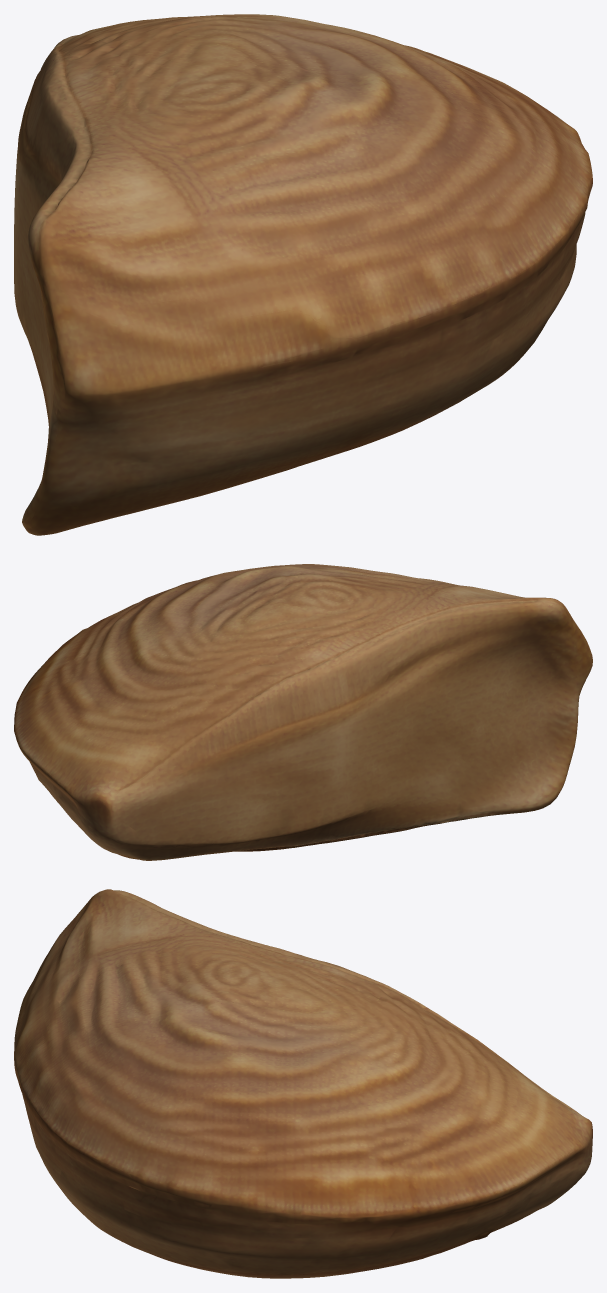
3 renders of one model, top to bottom at view 1: azimuth 30°, elevation 25°; view 2: azimuth 150°, elevation 25°; view 3: azimuth 270°, elevation 25°, orthographic. The views are drawn at different scales.
Parts seen in each view (by area): view 1: world; view 2: world; view 3: world.
Boxes of the visible parts, left/top/right/bottom form: world: left=14, top=14, right=592, bottom=535; world: left=14, top=564, right=592, bottom=860; world: left=14, top=889, right=592, bottom=1278.
Size of the model in its own units: 0.0423 by 0.0207 by 0.045.
1 material, 1 textured.
